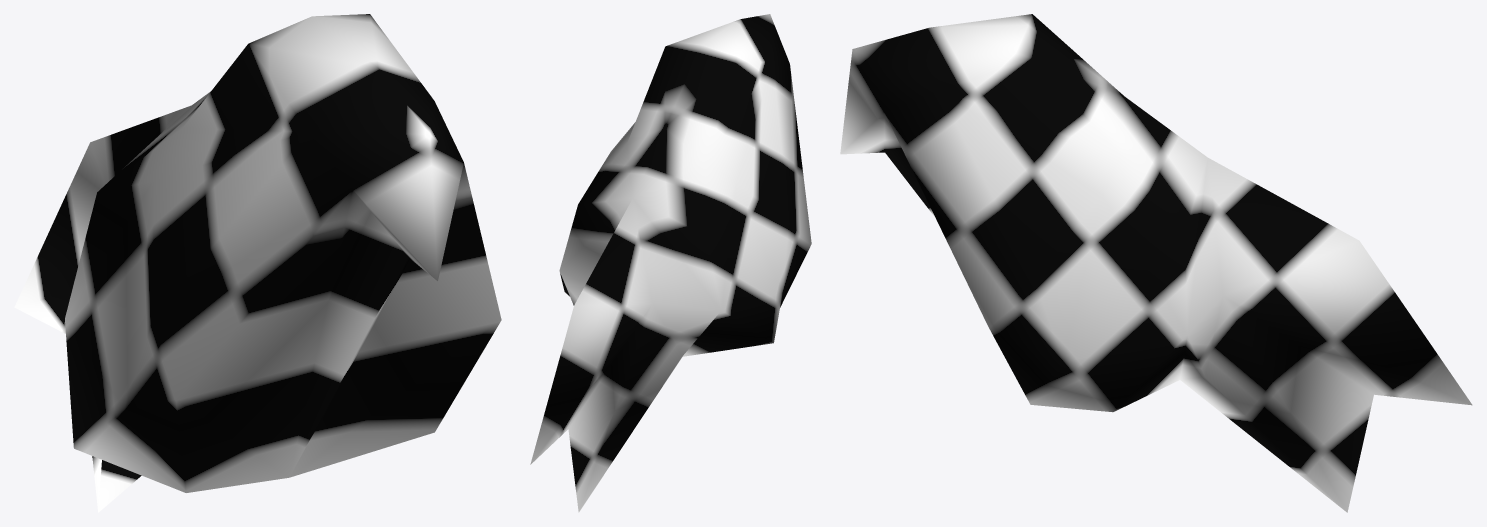
Rendered from infaunmoli.dae.
3 views of the same model, side by side, from view 1: azimuth 30°, elevation 25°; view 2: azimuth 150°, elevation 25°; view 3: azimuth 270°, elevation 25° (orthographic). The views are drawn at different scales.
Parts seen in each view (by area): view 1: face; view 2: face; view 3: face.
Boxes of the visible parts, x1,y1,x2,y2 form: face: (14,14,501,512); face: (530,14,811,512); face: (840,14,1472,512).
Size of the model in its own units: 0.3255 by 0.6592 by 0.5609.
1 material, 1 textured.
